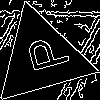P: (16, 32, 71, 77)
